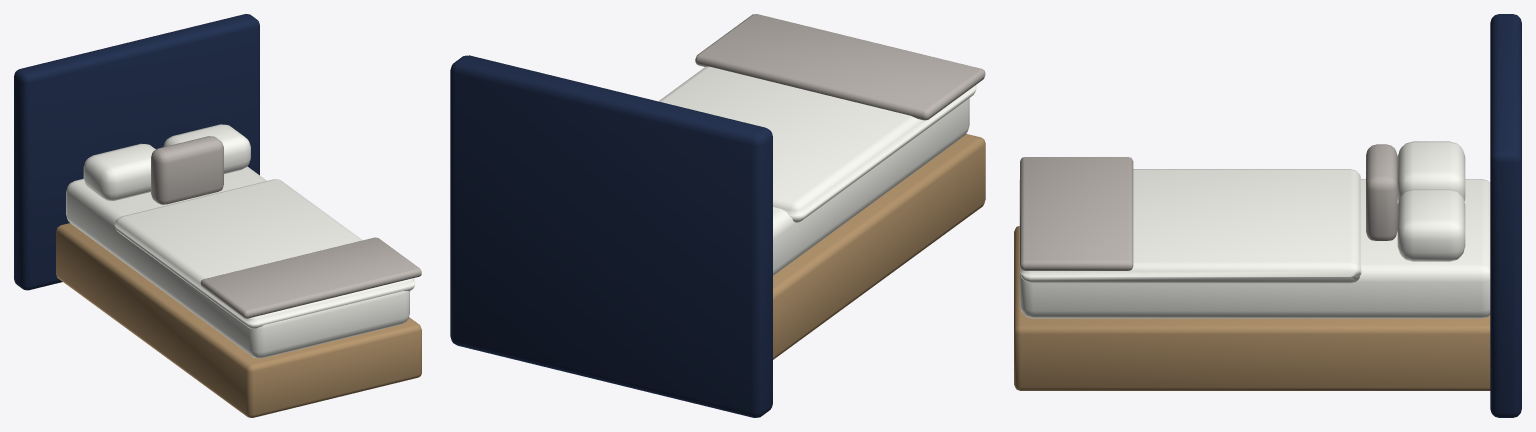
The model's file is fur_bed_single.glb.
3 renders of one model, left to right at view 1: azimuth 30°, elevation 25°; view 2: azimuth 150°, elevation 25°; view 3: azimuth 270°, elevation 25°, orthographic. The views are drawn at different scales.
Parts seen in each view (by area): view 1: FUR_bed_single; view 2: FUR_bed_single; view 3: FUR_bed_single.
Part boxes in pixels (left/top/right/bottom): FUR_bed_single: left=14, top=14, right=421, bottom=417; FUR_bed_single: left=450, top=14, right=985, bottom=417; FUR_bed_single: left=1014, top=14, right=1521, bottom=417.
Bounding box in the file's own units: 1.5 × 1.3 × 2.25.
Materials: 1 (1 with a texture image).
